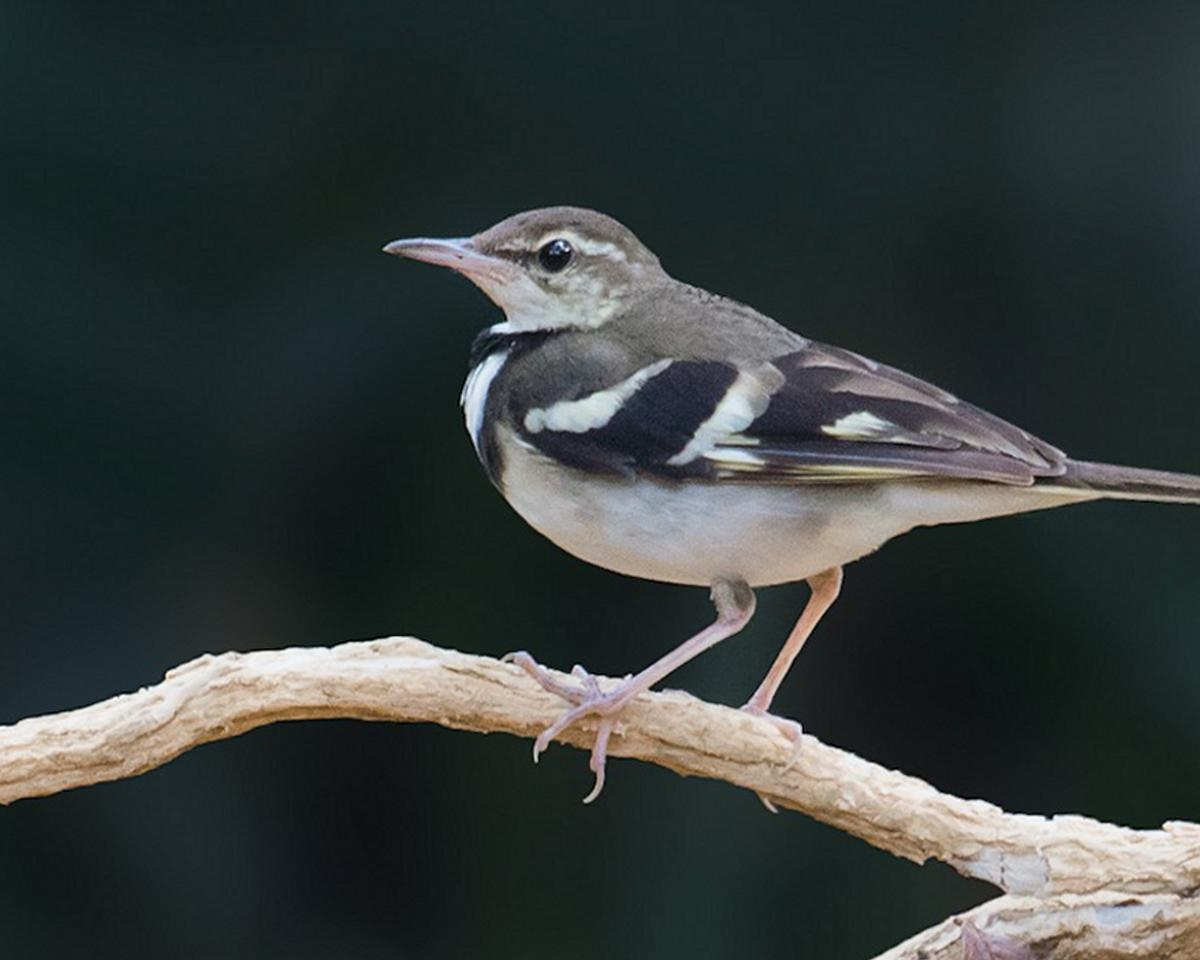wagtail: (368, 166, 1122, 729)
